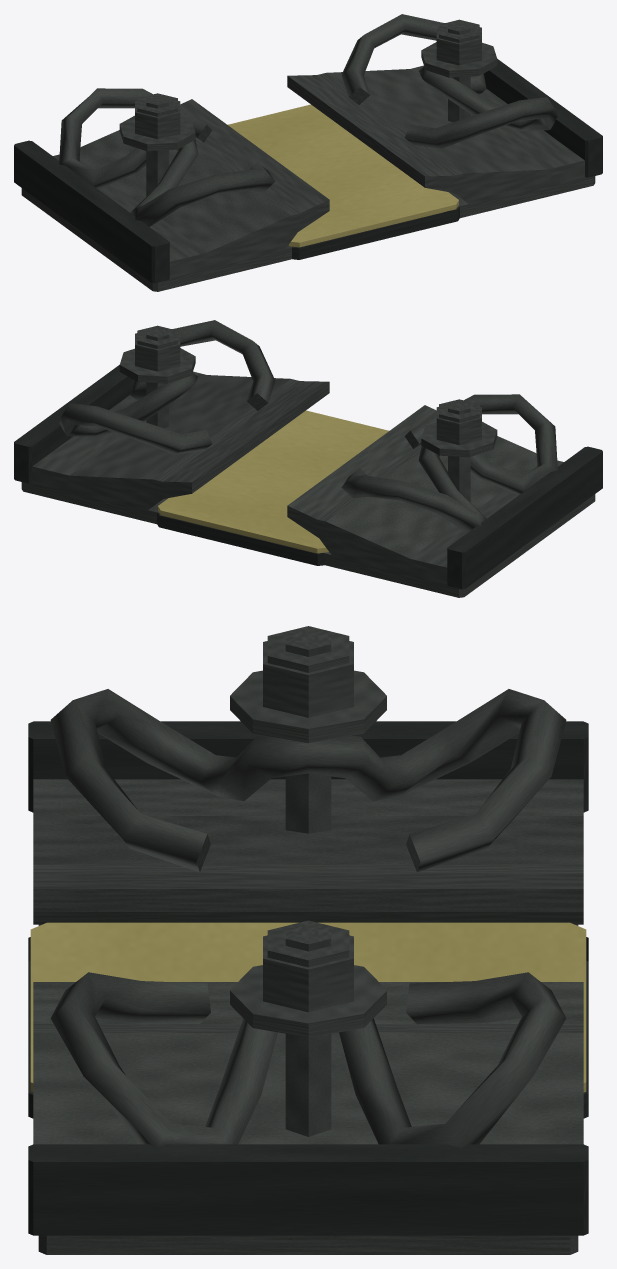
The model's file is fastener.obj.
The picture shows the model from 3 angles, top to bottom: view 1: azimuth 30°, elevation 25°; view 2: azimuth 150°, elevation 25°; view 3: azimuth 270°, elevation 25°; orthographic projection. The views are drawn at different scales.
Visible parts, largest first — view 1: fastener; view 2: fastener; view 3: fastener.
Part boxes in pixels (x1,y1,x2,y2): fastener: (14,14,602,291); fastener: (14,320,602,597); fastener: (28,626,588,1254).
Bounding box in the file's own units: 0.398 × 0.1066 × 0.214.
1 material, 1 textured.
